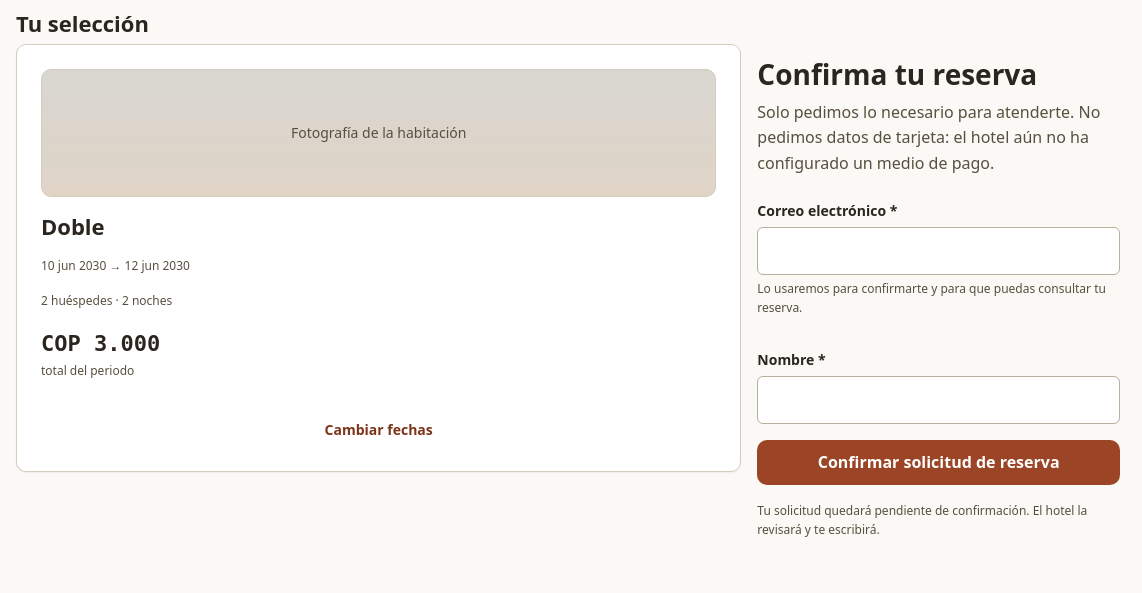
Scenario: PaginaReserva › marca y enfoca el correo cuando falta o tiene un formato inválido
The image size is (1142, 593).
Type "sin-correo" into the field labelled "Correo electrónico *" at (939,251), box [757,227,1120,275]
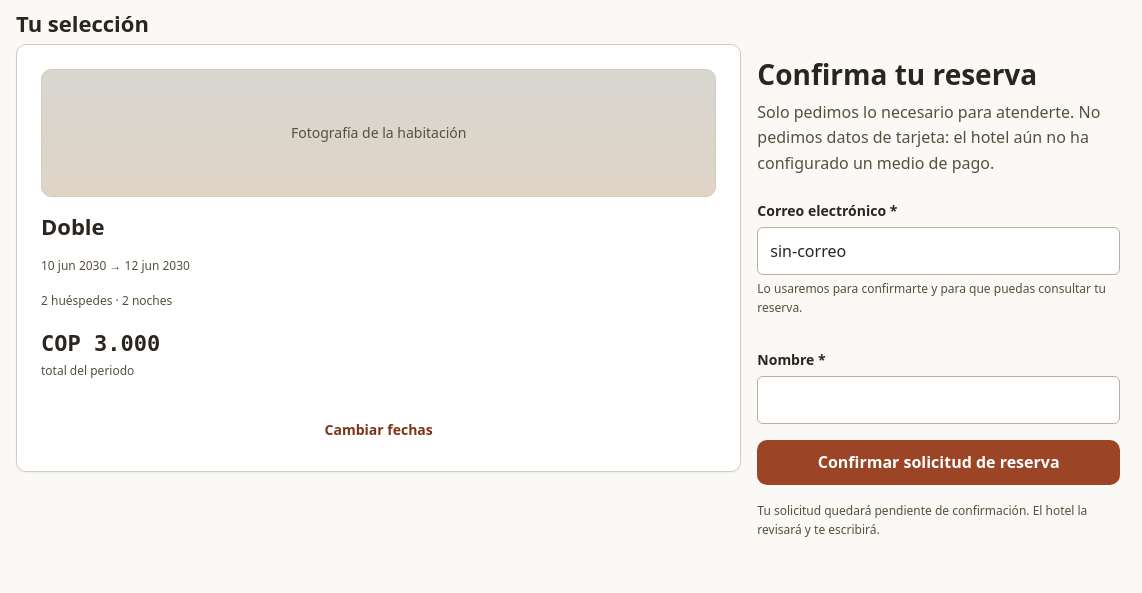
Type "Ana" into the field labelled "Nombre *" at (939,400), box [757,376,1120,424]
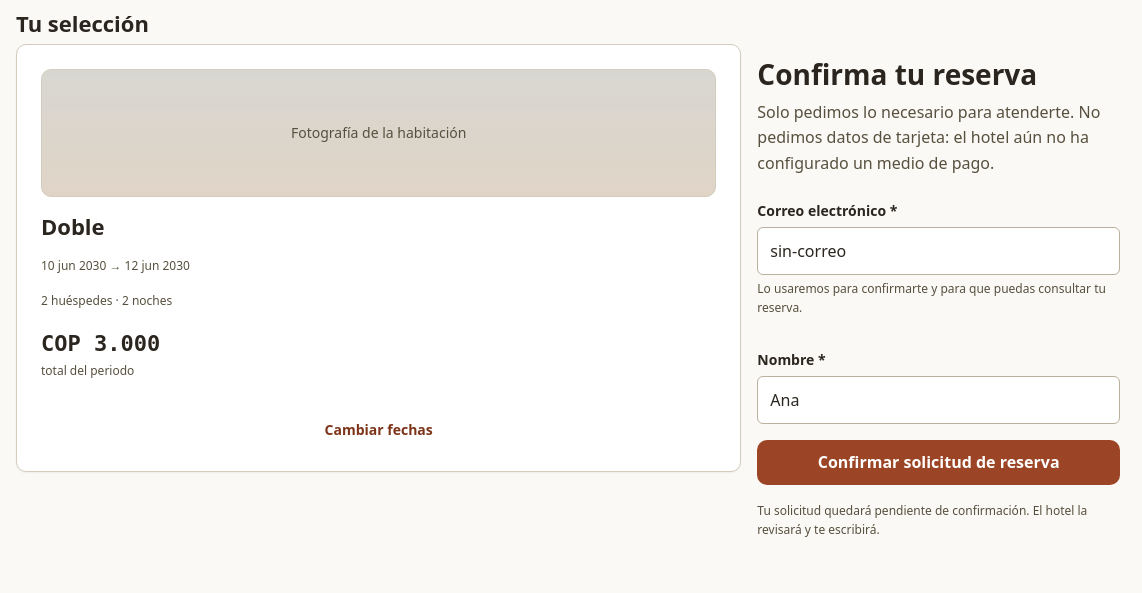
Click the button "Confirmar solicitud de reserva" at (939,462), box [757,440,1120,485]
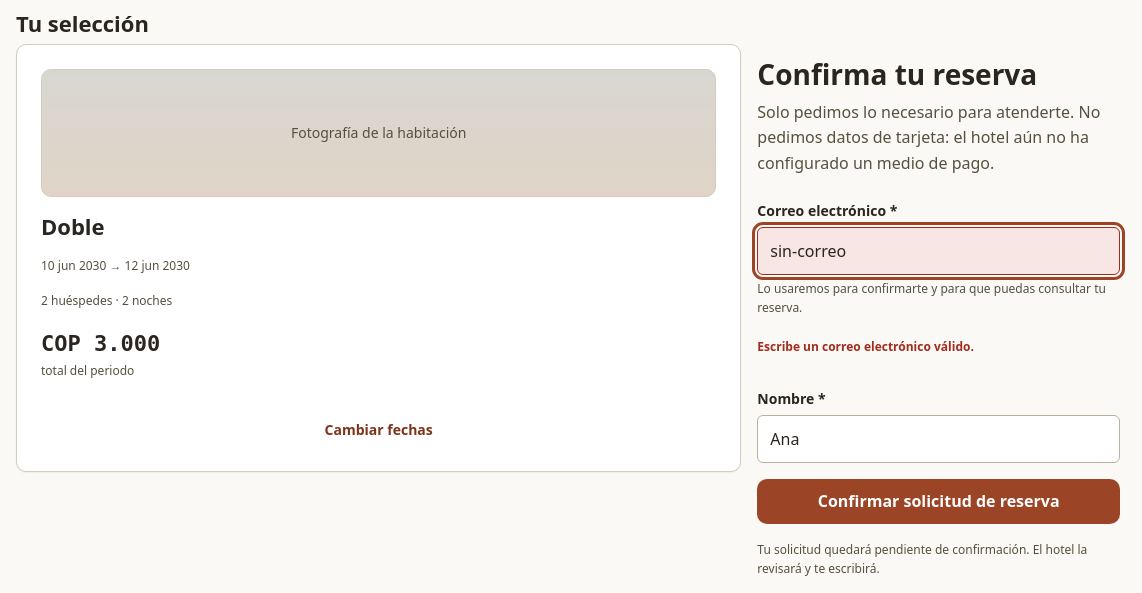
Expected: the text "Escribe un correo electrónico válido." is shown, [757,338,974,355]
